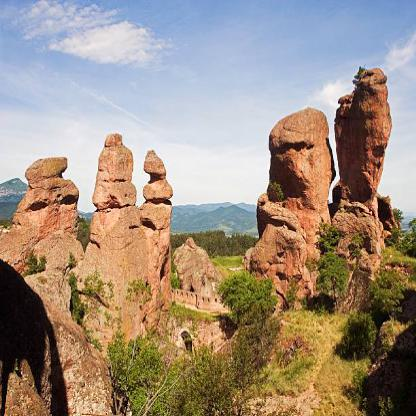Sedimentary_Sandstone: (262, 113, 328, 249), (335, 68, 390, 195), (88, 218, 164, 306), (90, 134, 142, 207), (25, 152, 84, 206), (174, 237, 216, 307), (144, 148, 170, 177)
